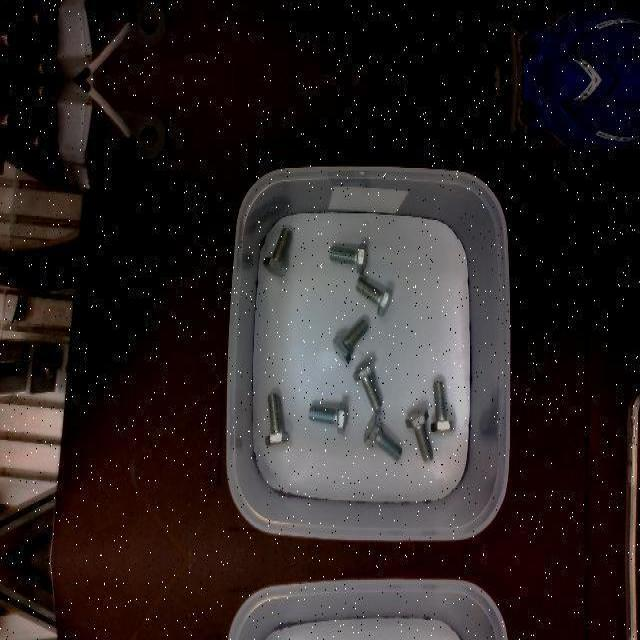screw: (363, 414, 402, 462), (332, 320, 368, 364), (405, 408, 434, 462), (355, 275, 392, 317), (352, 360, 382, 410), (263, 227, 292, 277), (431, 381, 456, 433), (265, 393, 290, 445), (308, 402, 347, 434), (329, 243, 367, 273)
